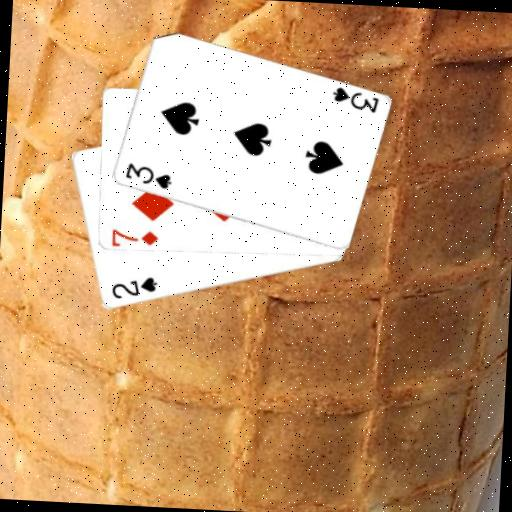2S: (108, 272, 159, 303)
3S: (121, 160, 173, 192), (329, 83, 381, 115)
7D: (108, 226, 160, 248)
